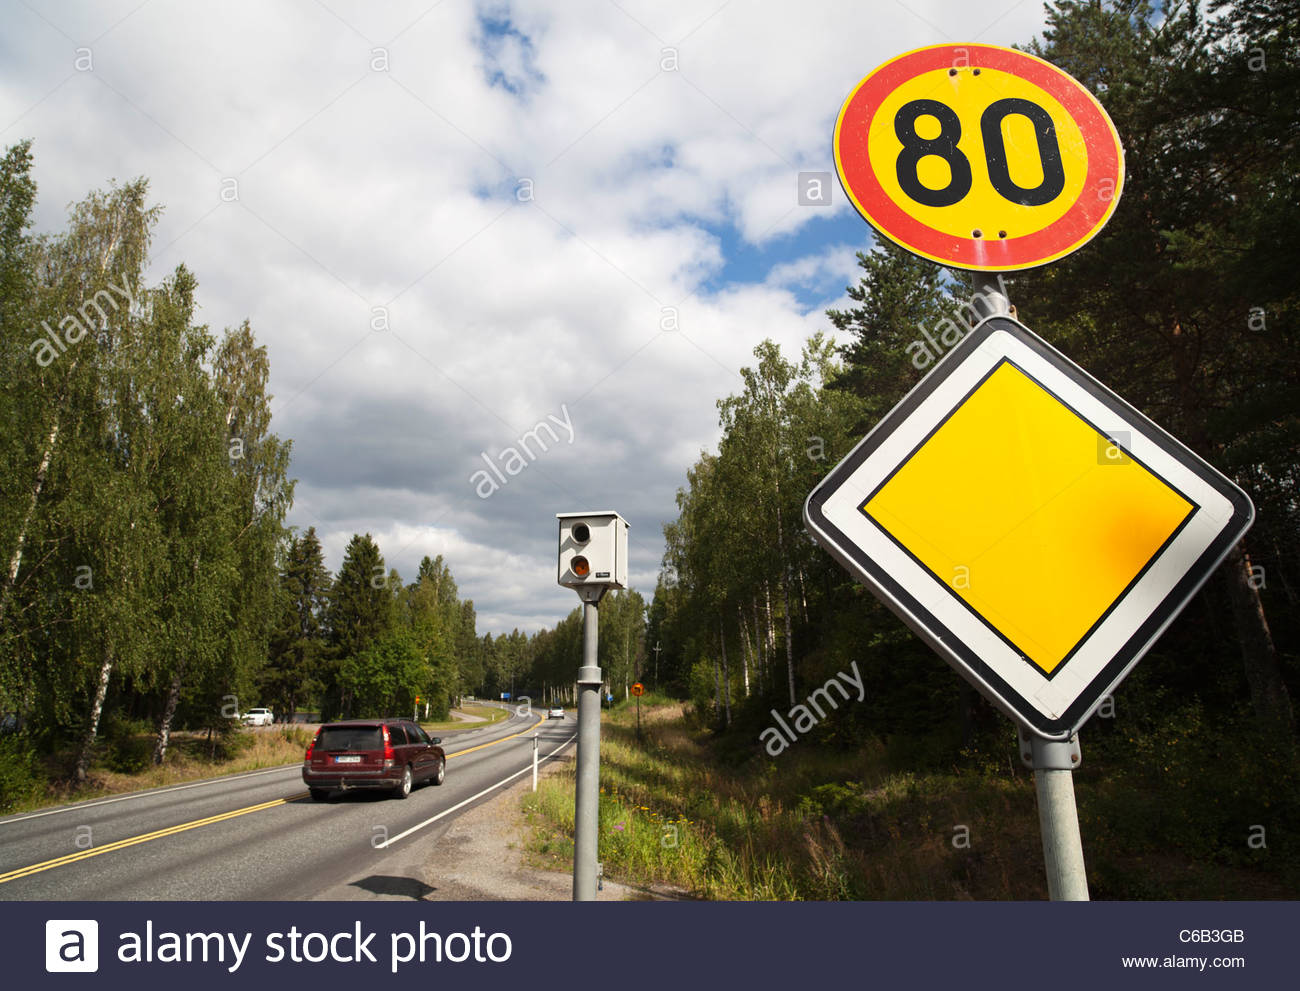speed_limit_80: (834, 45, 1127, 273)
